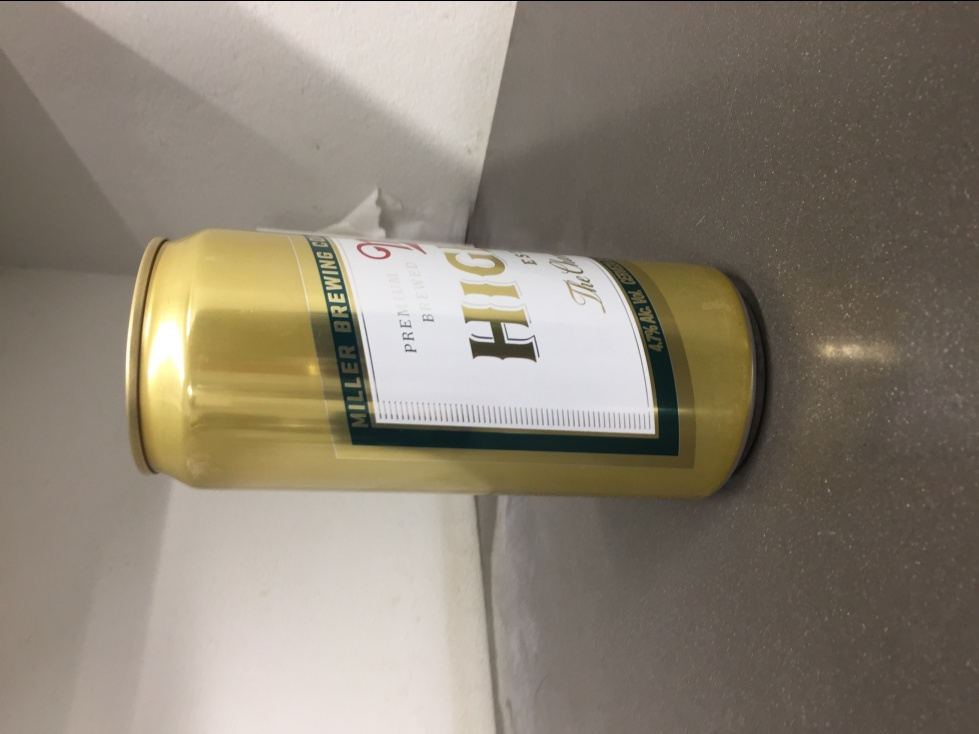miller: (118, 223, 763, 504)
